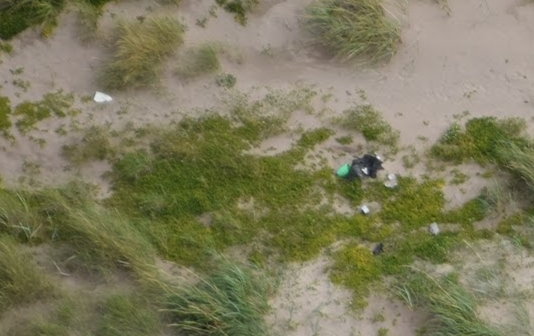scattered_barrel: (330, 144, 450, 262)
white_in_green: (77, 73, 127, 122)
